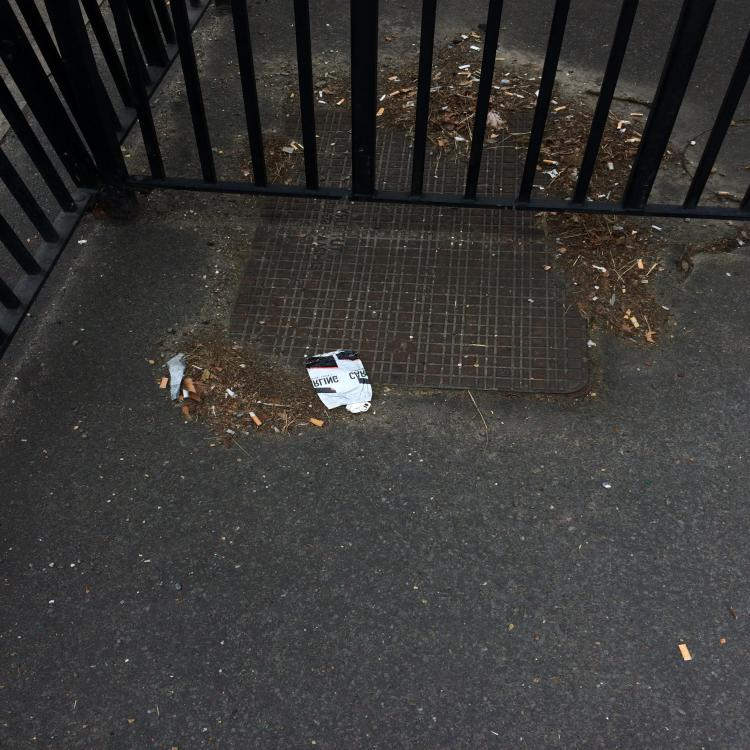Cigarette: (678, 645, 692, 661), (249, 412, 263, 426), (629, 317, 640, 328), (310, 419, 324, 427), (159, 378, 169, 388), (226, 389, 236, 398), (623, 311, 632, 319), (637, 259, 644, 269), (544, 160, 558, 165), (377, 108, 385, 116), (290, 144, 299, 151), (652, 225, 662, 231), (555, 106, 566, 111), (336, 99, 345, 105), (227, 429, 236, 435), (388, 76, 398, 81), (608, 162, 614, 170), (379, 95, 386, 101), (504, 92, 514, 96), (471, 34, 481, 38), (460, 65, 470, 69), (471, 46, 481, 50), (390, 92, 400, 96), (631, 113, 643, 116), (318, 101, 327, 105), (718, 192, 730, 195), (618, 122, 622, 130), (461, 35, 469, 39), (458, 73, 471, 75), (497, 58, 505, 61), (666, 151, 672, 155), (598, 195, 606, 198), (627, 140, 635, 142), (320, 91, 322, 97)
Drink can: (305, 349, 372, 413)
Pop tab: (359, 402, 371, 411)
Unlabeled litter: (166, 353, 187, 400)
